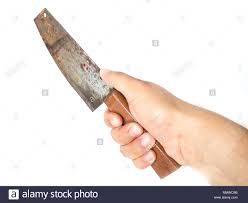knife: (27, 4, 185, 182)
